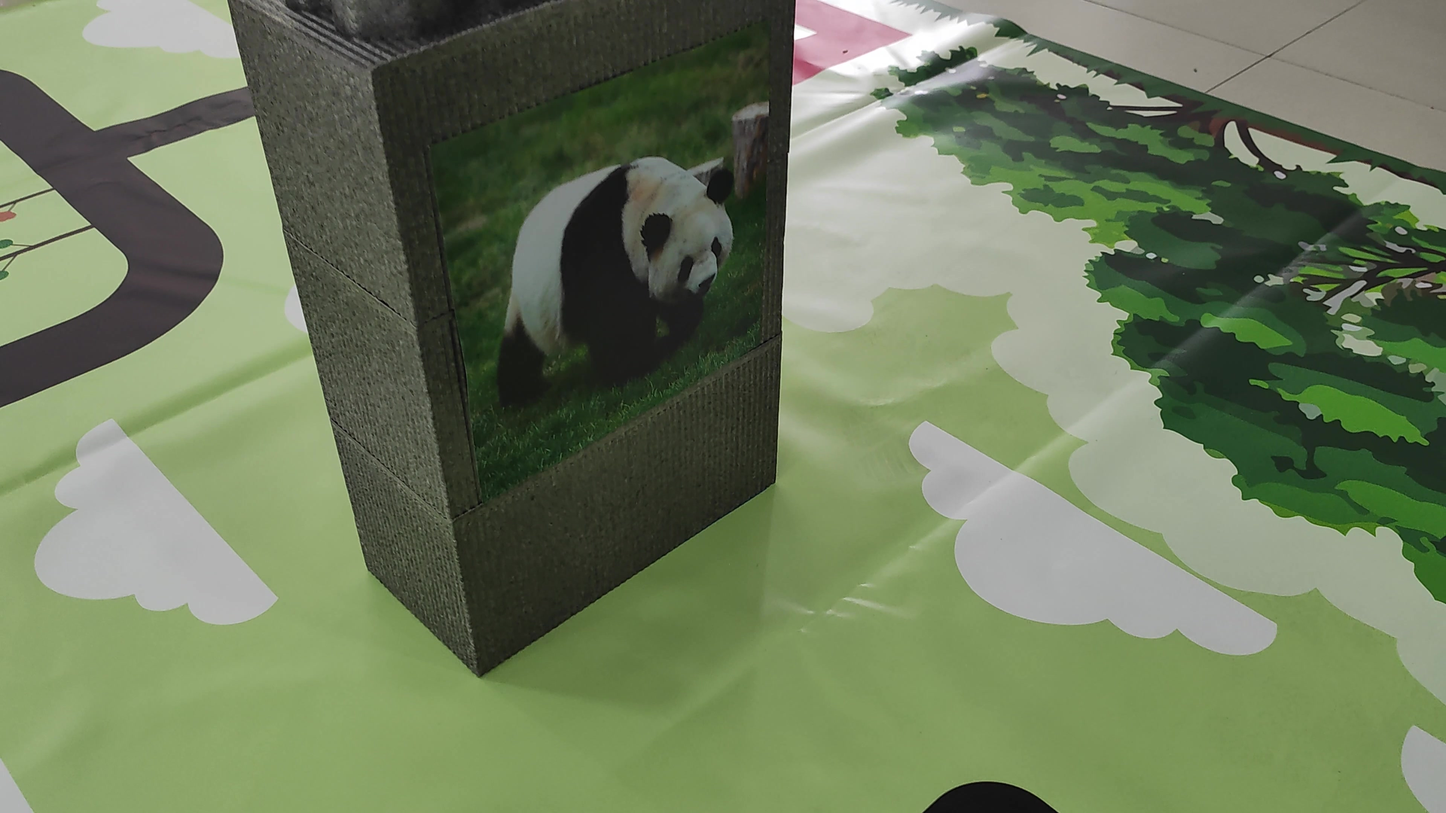panda: (493, 124, 776, 415)
